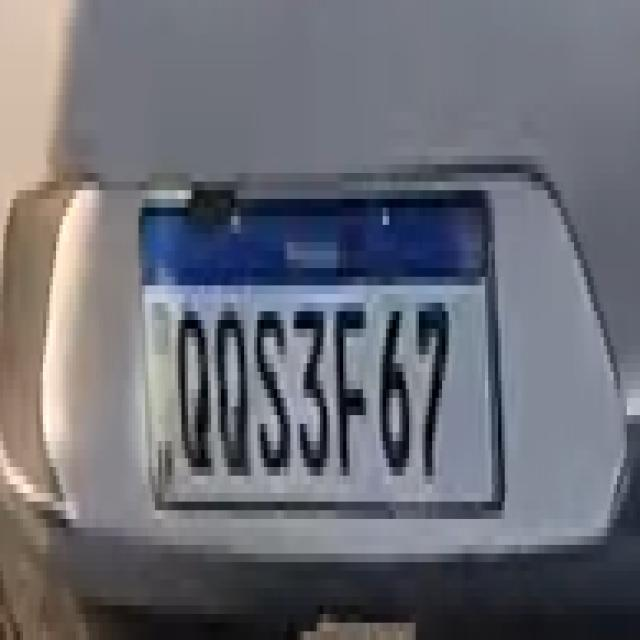Placa_mercosul_carro: (138, 191, 506, 511)
